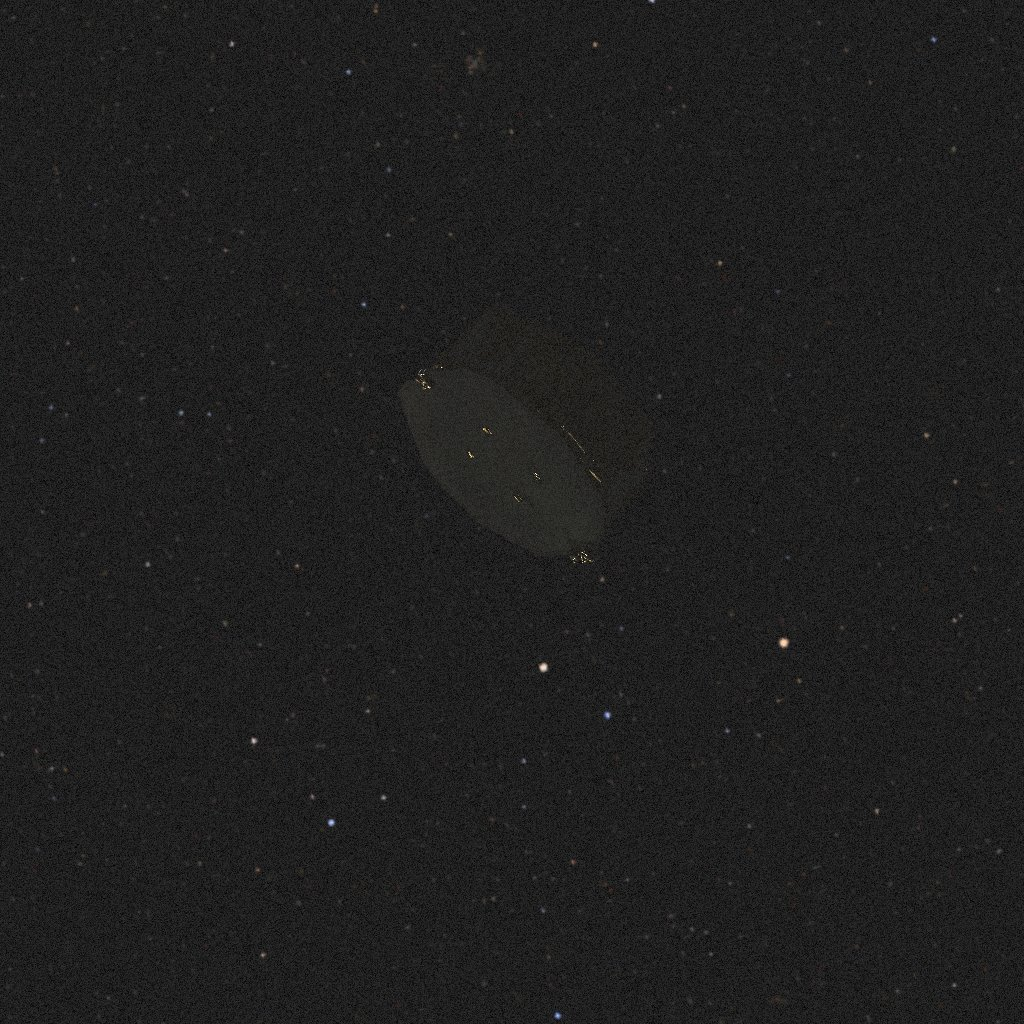lisa_pathfinder: (398, 283, 677, 570)
